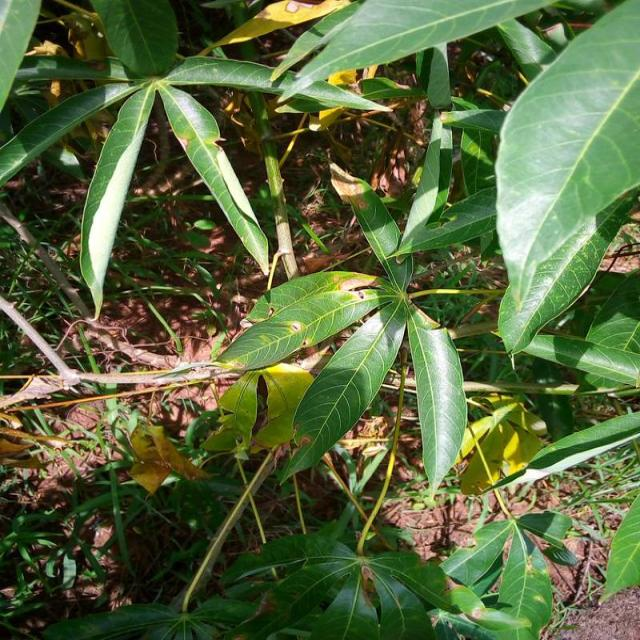cassava leaf: (492, 0, 639, 357), (279, 297, 406, 484), (78, 80, 156, 320), (405, 299, 467, 498)
